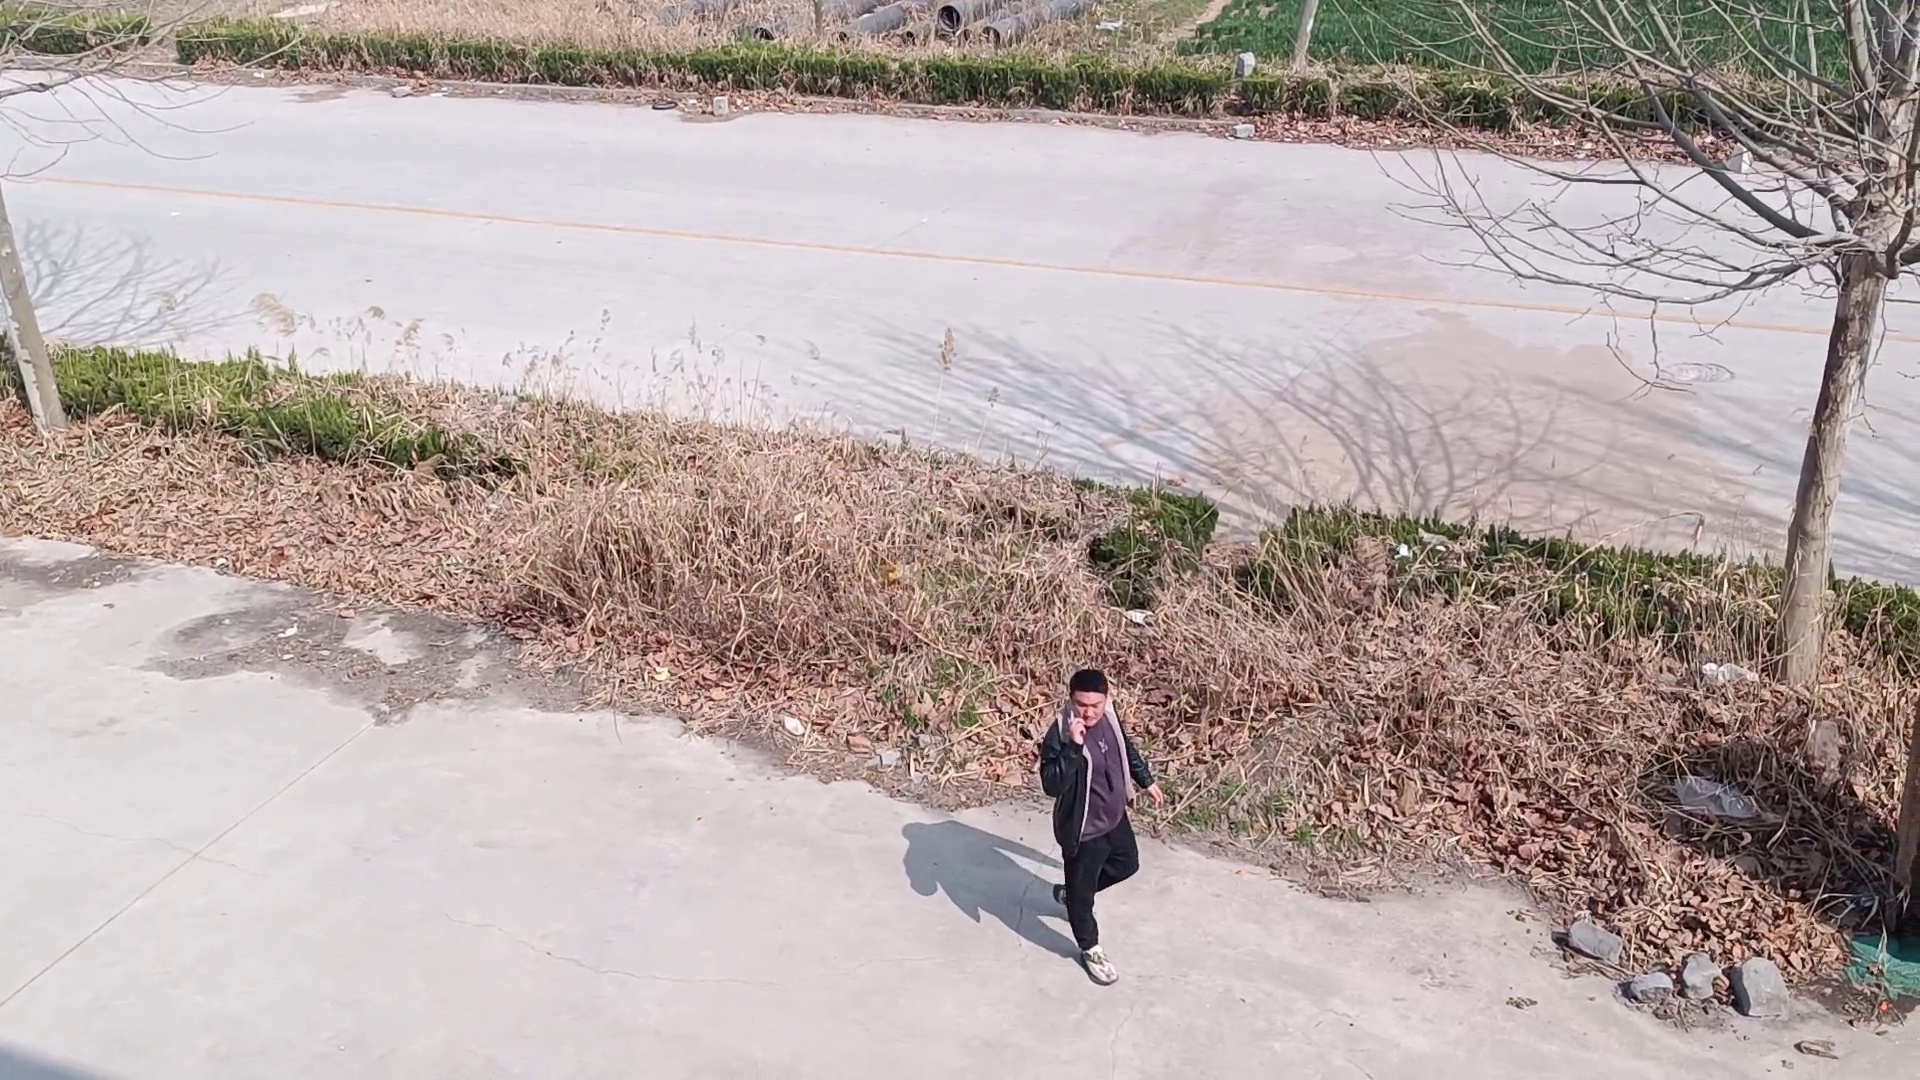phone: (1060, 667, 1109, 742)
